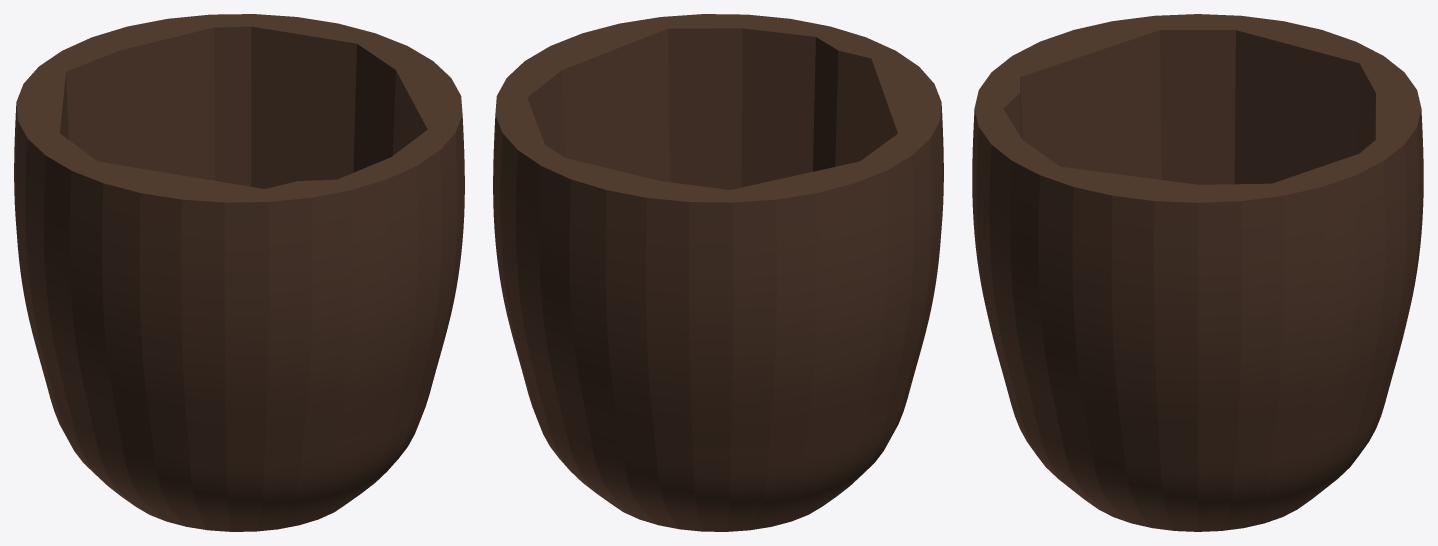
The picture shows the model from 3 angles, left to right: view 1: azimuth 30°, elevation 25°; view 2: azimuth 150°, elevation 25°; view 3: azimuth 270°, elevation 25°; orthographic projection.
Visible parts, largest first — view 1: vessel; view 2: vessel; view 3: vessel.
Part boxes in pixels (box(x1,y1,x2,y2)): vessel: box(14, 14, 464, 531); vessel: box(493, 14, 943, 531); vessel: box(972, 14, 1423, 531).
Bounding box in the file's own units: 0.2 × 0.1823 × 0.2.
